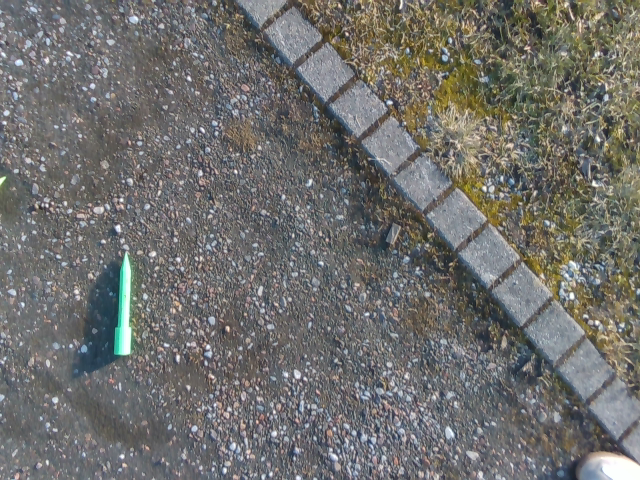Probe: (109, 245, 136, 365)
